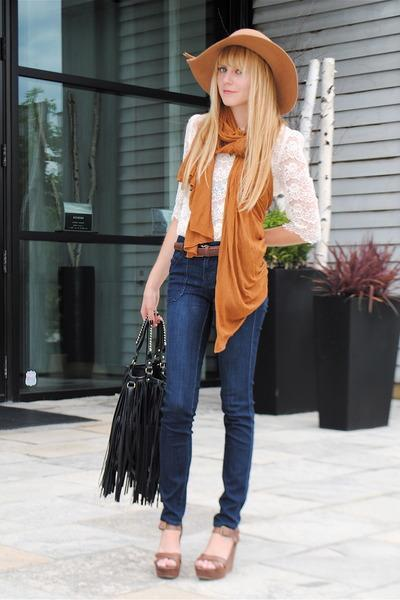bag: (103, 324, 169, 504)
hat: (189, 29, 303, 114)
pants: (157, 236, 267, 530)
shirt: (162, 132, 314, 240)
shoe: (154, 550, 233, 580)
